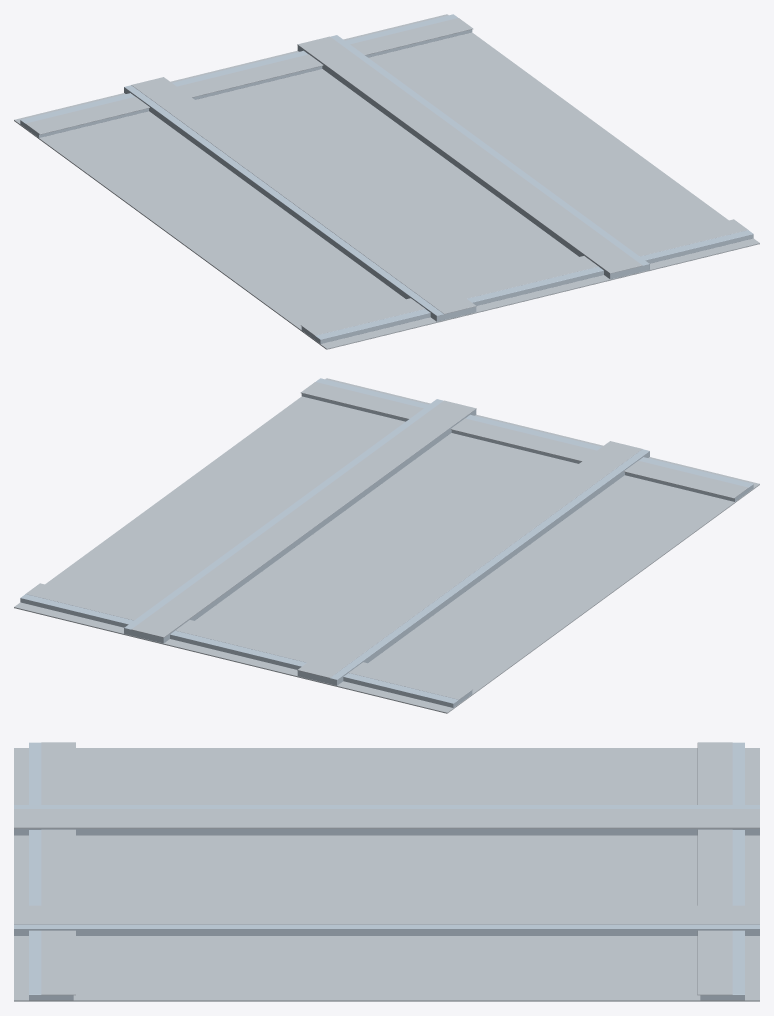
The model's file is MenuRidePlain.fbx.
The picture shows the model from 3 angles, top to bottom: view 1: azimuth 30°, elevation 25°; view 2: azimuth 150°, elevation 25°; view 3: azimuth 270°, elevation 25°; orthographic projection. The views are drawn at different scales.
Visible parts, largest first — view 1: MenuRidePlain; view 2: MenuRidePlain; view 3: MenuRidePlain.
Boxes of the visible parts, bbox=[...] form: MenuRidePlain: bbox=[14, 14, 759, 349]; MenuRidePlain: bbox=[14, 378, 759, 713]; MenuRidePlain: bbox=[14, 742, 759, 1001].
Size of the model in its own units: 24000 by 395 by 30000.
